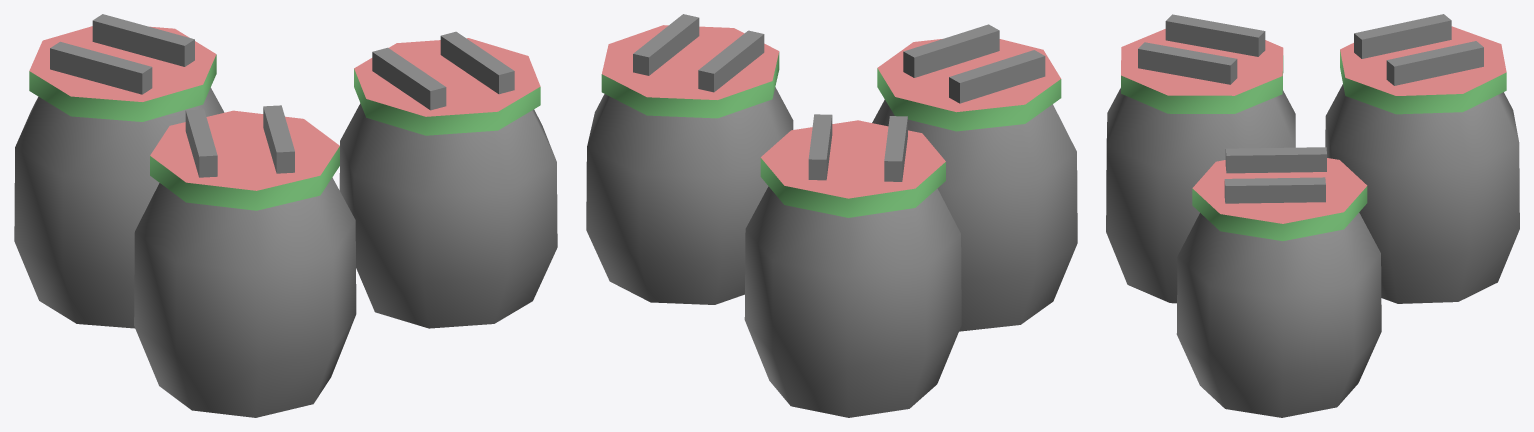
Rendered from Rune_Village_S__rune_v_obj03.gltf.
3 renders of one model, left to right at view 1: azimuth 30°, elevation 25°; view 2: azimuth 150°, elevation 25°; view 3: azimuth 270°, elevation 25°, orthographic. The views are drawn at different scales.
Visible parts, largest first — view 1: rune_v_obj03; view 2: rune_v_obj03; view 3: rune_v_obj03.
Part boxes in pixels (x1,y1,x2,y2): rune_v_obj03: (14,14,557,417); rune_v_obj03: (586,14,1077,417); rune_v_obj03: (1106,14,1519,417).
Bounding box in the file's own units: 0.6717 × 0.3745 × 0.6039.
